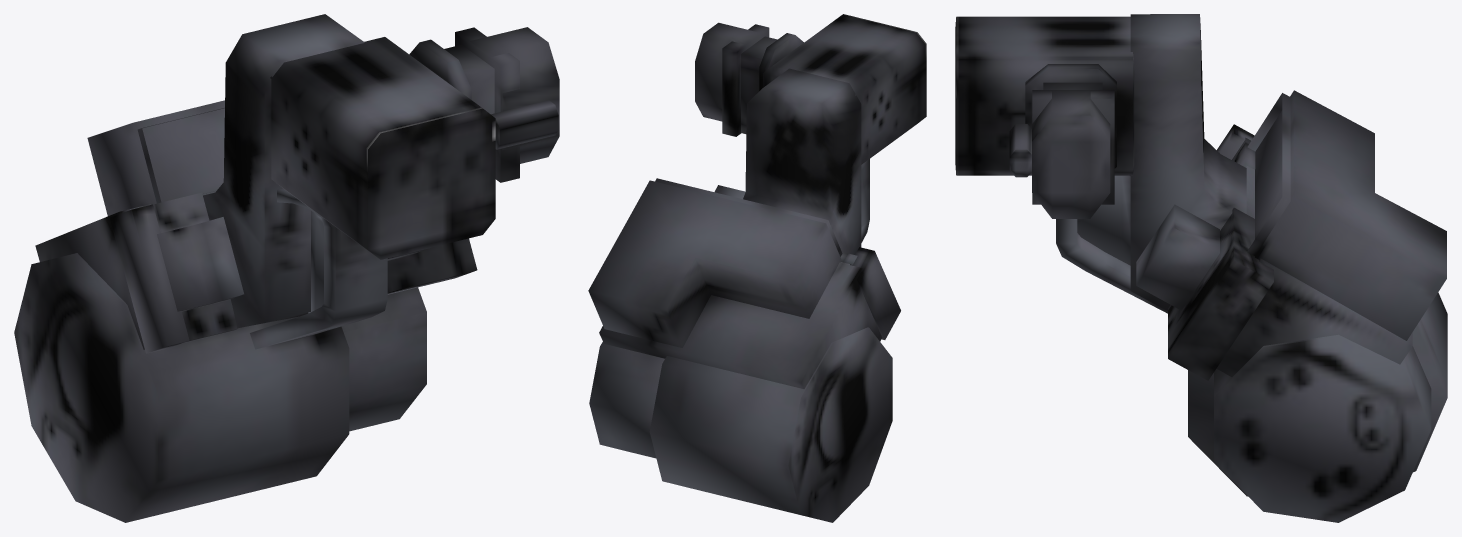
Rendered from r_clav.obj.
The picture shows the model from 3 angles, left to right: view 1: azimuth 30°, elevation 25°; view 2: azimuth 150°, elevation 25°; view 3: azimuth 270°, elevation 25°; orthographic projection. The views are drawn at different scales.
Visible parts, largest first — view 1: r_clav; view 2: r_clav; view 3: r_clav.
Part boxes in pixels (bbox=[...]): r_clav: bbox=[14, 14, 559, 522]; r_clav: bbox=[588, 14, 926, 522]; r_clav: bbox=[955, 14, 1447, 522].
Size of the model in its own units: 0.1201 by 0.1828 by 0.1793.
